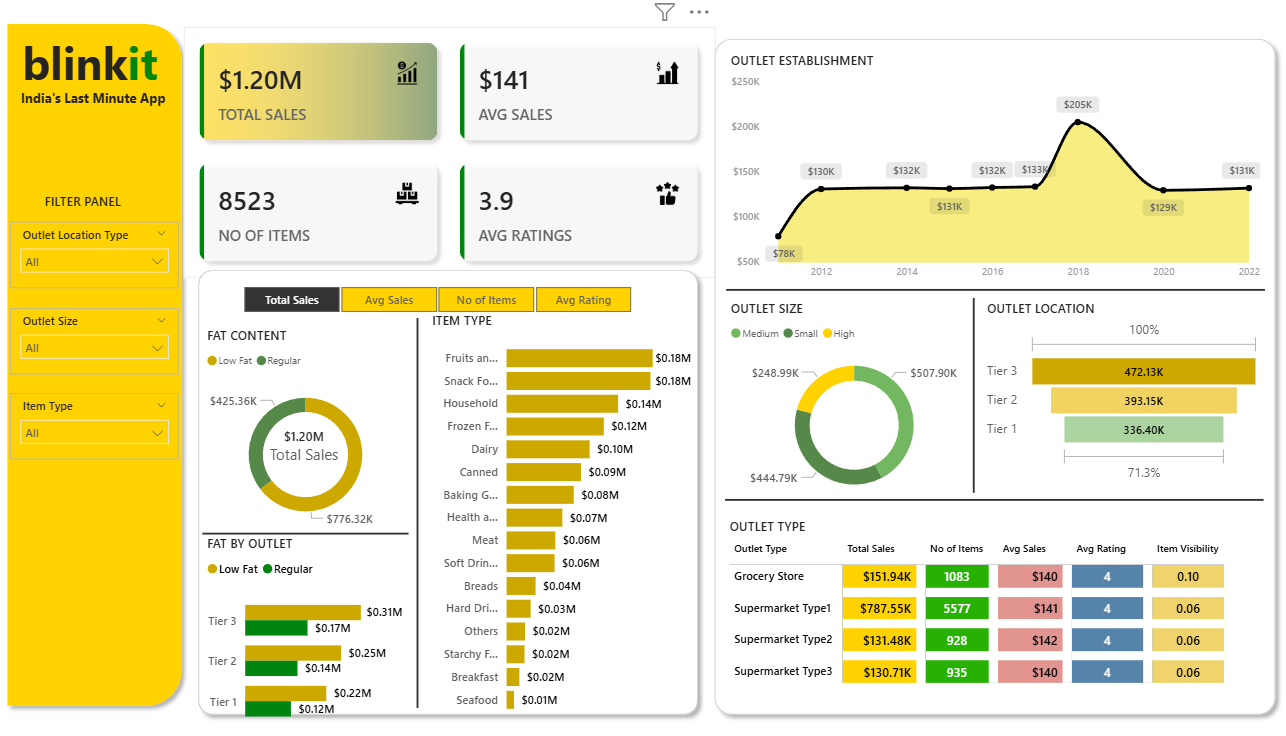

The page's visual inventory and layout, read from the dashboard file:
{"tool":"powerbi","page":{"name":"Page 1","canvas":[1400,800],"ordinal":0},"visuals":[{"type":"shape","box":[9.4,24.1,205.1,749.3],"z":0},{"type":"textbox","box":[29.5,36.2,164.9,89.8],"z":1000},{"type":"textbox","box":[28.2,97.9,166.2,28.2],"z":2000},{"type":"cardVisual","fields":{"Data":["BlinkIT Grocery Data.Total Sales","BlinkIT Grocery Data.Avg Sales","BlinkIT Grocery Data.No of Items","BlinkIT Grocery Data.Avg Rating"]},"box":[207.8,36.2,569.7,269.4],"z":3000},{"type":"shape","box":[214.5,288.2,553.6,494.6],"z":4000},{"type":"donutChart","title":" FAT CONTENT","fields":{"Y":["BlinkIT Grocery Data.Total Sales"],"Category":["BlinkIT Grocery Data.Item Fat Content"]},"box":[227.9,357.9,221.2,229.2],"z":5000},{"type":"clusteredBarChart","box":[246.7,317.7,465.1,40.2],"z":6000},{"type":"cardVisual","fields":{"Data":["BlinkIT Grocery Data.Total Sales"]},"box":[274.8,443.7,124.7,84.5],"z":7000},{"type":"slicer","fields":{"Values":["Metrics.Metrics"]},"box":[246.7,308.3,465.1,40.2],"z":8000},{"type":"clusteredBarChart","title":"FAT BY OUTLET","fields":{"Y":["BlinkIT Grocery Data.Total Sales"],"Category":["BlinkIT Grocery Data.Outlet Location Type"],"Series":["BlinkIT Grocery Data.Item Fat Content"]},"box":[227.9,580.4,219.8,219.8],"z":9000},{"type":"shape","box":[227.9,573.7,221.2,12.1],"z":10000},{"type":"shape","box":[353.9,348.5,209.1,418.2],"z":11000},{"type":"barChart","title":"ITEM TYPE","fields":{"Y":["BlinkIT Grocery Data.Total Sales"],"Category":["BlinkIT Grocery Data.Item Type"]},"box":[469.2,341.8,288.2,441],"z":12000},{"type":"shape","box":[768.1,40.2,619.3,742.6],"z":13000},{"type":"lineChart","title":"OUTLET ESTABLISHMENT","fields":{"Y":["BlinkIT Grocery Data.Total Sales"],"Category":["BlinkIT Grocery Data.Outlet Establishment Year"]},"box":[789.5,63,577.8,253.4],"z":14000},{"type":"shape","box":[789.5,308.3,577.8,20.1],"z":15000},{"type":"donutChart","title":"OUTLET SIZE","fields":{"Y":["BlinkIT Grocery Data.Total Sales"],"Category":["BlinkIT Grocery Data.Outlet Size"]},"box":[789.5,328.4,274.8,225.2],"z":16000},{"type":"shape","box":[950.4,327.1,209.1,209.1],"z":17000},{"type":"funnel","title":" OUTLET LOCATION","fields":{"Y":["Sum(BlinkIT Grocery Data.Sales)"],"Category":["BlinkIT Grocery Data.Outlet Location Type"]},"box":[1064.3,328.4,303,199.7],"z":18000},{"type":"shape","box":[788.2,533.5,577.8,20.1],"z":19000},{"type":"pivotTable","title":"OUTLET TYPE","fields":{"Rows":["BlinkIT Grocery Data.Outlet Type"],"Values":["BlinkIT Grocery Data.Total Sales","BlinkIT Grocery Data.No of Items","BlinkIT Grocery Data.Avg Sales","BlinkIT Grocery Data.Avg Rating","Avg(BlinkIT Grocery Data.Item Visibility)"]},"box":[788.2,563,576.4,203.8],"z":20000},{"type":"slicer","fields":{"Values":["BlinkIT Grocery Data.Outlet Location Type"]},"box":[21.4,245.3,181,71],"z":21000},{"type":"slicer","fields":{"Values":["BlinkIT Grocery Data.Outlet Size"]},"box":[21.4,337.8,181,71],"z":22000},{"type":"slicer","fields":{"Values":["BlinkIT Grocery Data.Item Type"]},"box":[21.4,429,181,71],"z":23000},{"type":"textbox","box":[53.6,209.1,116.6,36.2],"z":24000}]}

Visuals, with their boxes in screenshot pixels (x1, y1, x2, y2), scaled from the page's 1400x800 canvas onto the 1286x736 screenshot:
shape: detection(9, 22, 197, 712)
textbox: detection(27, 33, 179, 116)
textbox: detection(26, 90, 179, 116)
cardVisual - BlinkIT Grocery Data.Total Sales x BlinkIT Grocery Data.Avg Sales: detection(191, 33, 714, 281)
shape: detection(197, 265, 706, 720)
" FAT CONTENT" donutChart: detection(209, 329, 413, 540)
clusteredBarChart: detection(227, 292, 654, 329)
cardVisual - BlinkIT Grocery Data.Total Sales: detection(252, 408, 367, 486)
slicer - Metrics.Metrics: detection(227, 284, 654, 321)
"FAT BY OUTLET" clusteredBarChart: detection(209, 534, 411, 735)
shape: detection(209, 528, 413, 539)
shape: detection(325, 321, 517, 705)
"ITEM TYPE" barChart: detection(431, 314, 696, 720)
shape: detection(706, 37, 1274, 720)
"OUTLET ESTABLISHMENT" lineChart: detection(725, 58, 1256, 291)
shape: detection(725, 284, 1256, 302)
"OUTLET SIZE" donutChart: detection(725, 302, 978, 509)
shape: detection(873, 301, 1065, 493)
" OUTLET LOCATION" funnel: detection(978, 302, 1256, 486)
shape: detection(724, 491, 1255, 509)
"OUTLET TYPE" pivotTable: detection(724, 518, 1253, 705)
slicer - BlinkIT Grocery Data.Outlet Location Type: detection(20, 226, 186, 291)
slicer - BlinkIT Grocery Data.Outlet Size: detection(20, 311, 186, 376)
slicer - BlinkIT Grocery Data.Item Type: detection(20, 395, 186, 460)
textbox: detection(49, 192, 156, 226)
